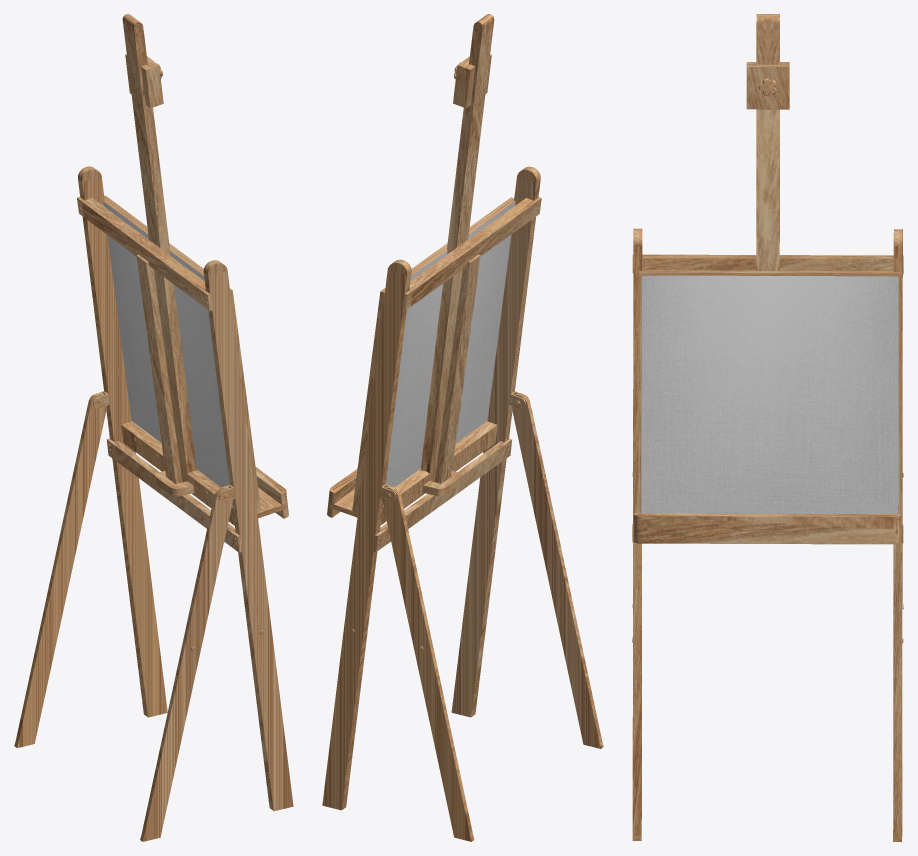
The model's file is Caballete.obj.
3 renders of one model, left to right at view 1: azimuth 30°, elevation 25°; view 2: azimuth 150°, elevation 25°; view 3: azimuth 270°, elevation 25°, orthographic. The views are drawn at different scales.
Visible parts, largest first — view 1: wooden_easel:Mesh; view 2: wooden_easel:Mesh; view 3: wooden_easel:Mesh.
Part boxes in pixels (x1,y1,x2,y2): wooden_easel:Mesh: (14,14,293,841); wooden_easel:Mesh: (322,14,603,841); wooden_easel:Mesh: (632,14,903,841).
Bounding box in the file's own units: 0.7547 × 3.64 × 1.15.
2 materials, 2 textured.
